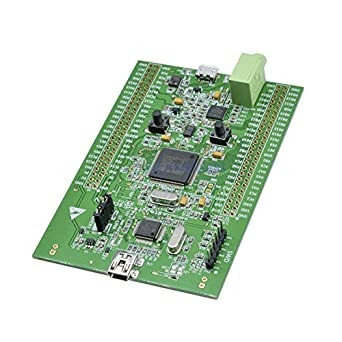STM32F4-DISC: (15, 48, 319, 340)
